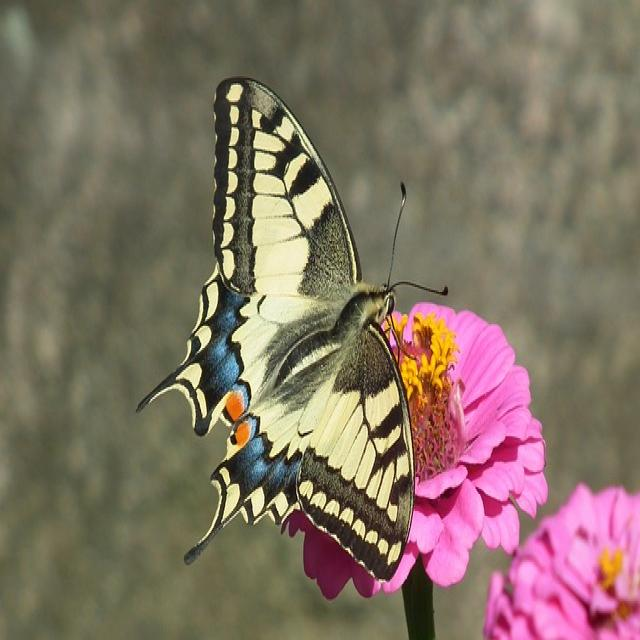butterfly: (139, 81, 415, 580)
